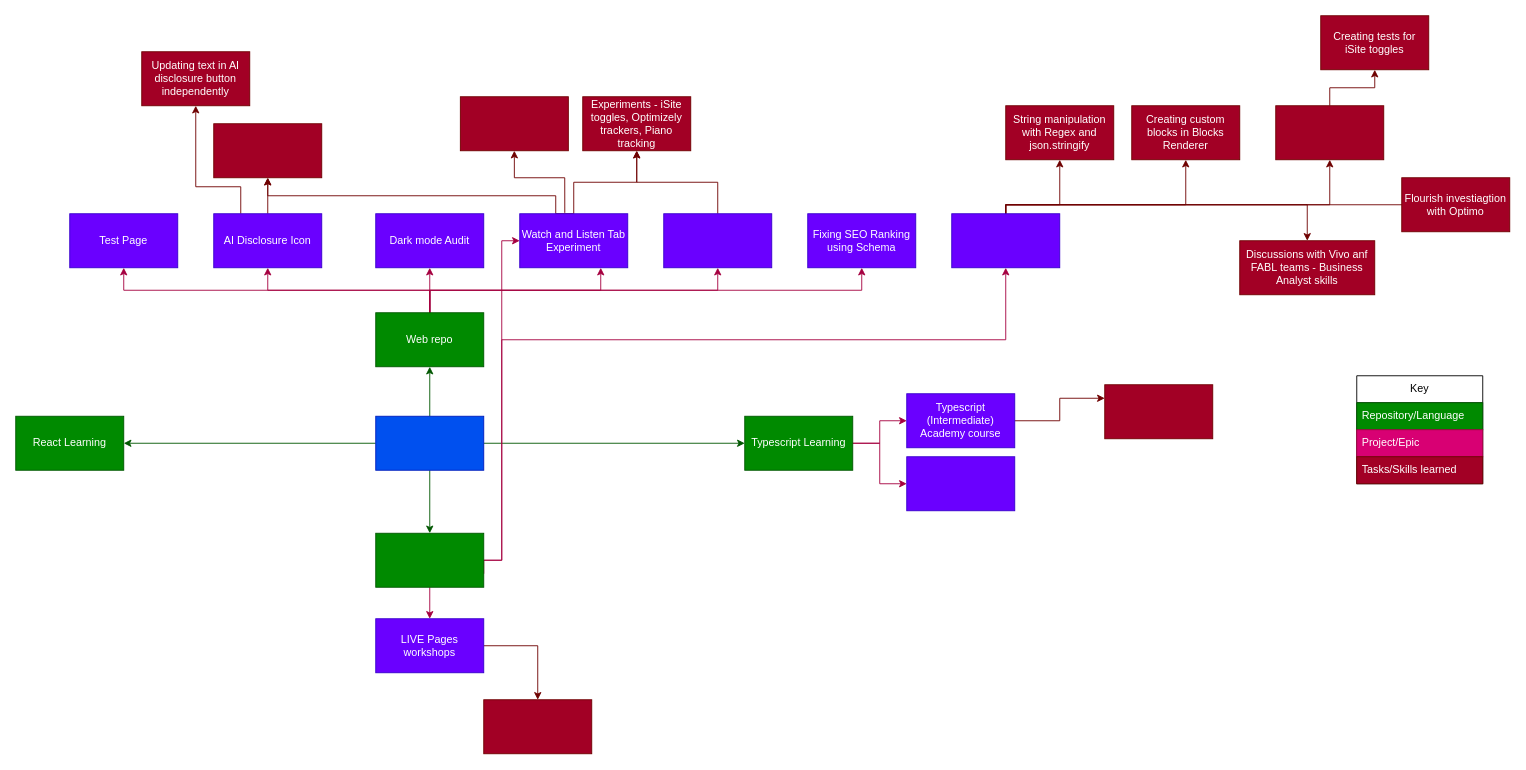
The diagram is 1526 pixels wide and 770 high, and some of its shapes have lost their labels. The shapes that lost their labels are listed below. From the top down, each one's box as (x1, y1, x2, y2) in pixels, then its label:
(459, 96, 568, 151): Ticket Creation
(1275, 105, 1384, 160): Creating Unit tests/ Test driven development
(213, 123, 322, 178): Accessibility - Aria text for screen readers
(663, 213, 772, 268): MSI Experiment Cleanup
(951, 213, 1060, 268): Riddle/Flourish embeds in posts
(1104, 384, 1213, 439): Shareback
(375, 415, 484, 470): LIVE Team Rotation
(906, 456, 1015, 511): Typescript Foundations Pluralsight course
(375, 532, 484, 587): FABL repo
(483, 699, 592, 754): Debugging with FABL Playground and Grafana
